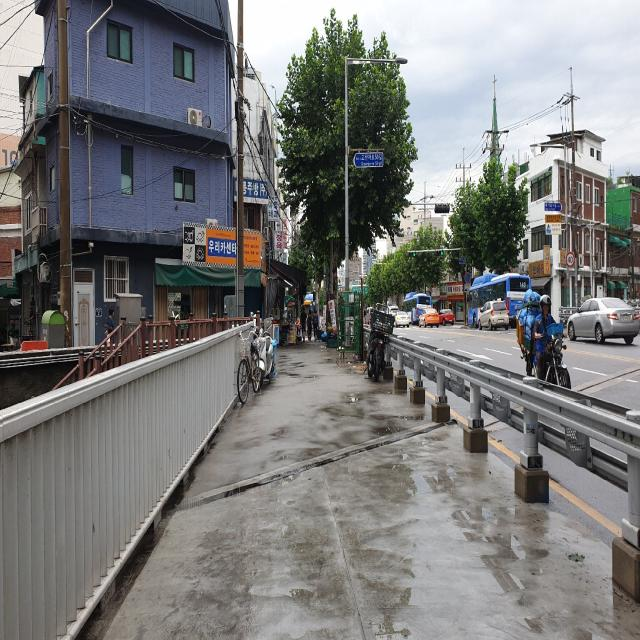motorbike: (256, 328, 274, 388)
